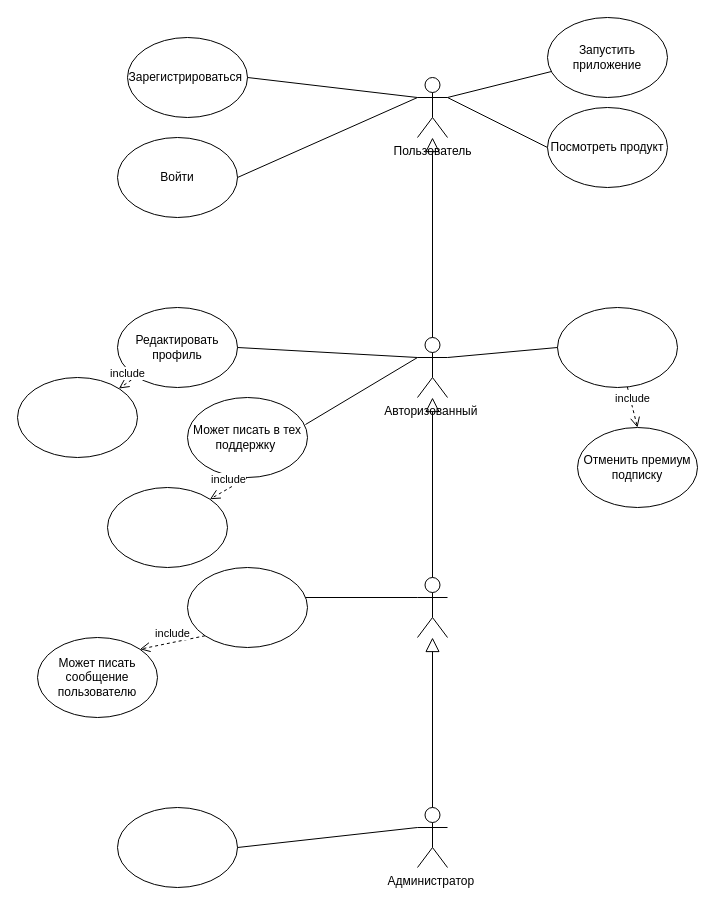
Some shapes in this 715 by 906 pixel diagram are drawn without their labels. The shapes that lost their labels are listed below. From the top down, each one's centre as x and y in pixels, then its label:
(617,347): Возможность купить премиум подписку
(77,417): Удалить профиль
(167,527): Может читать сообщение от тех поддержки
(247,607): Может читать сообщение пользователя
(432,607): Сотрудник тех поддержки
(177,847): Редактирование всех данных
